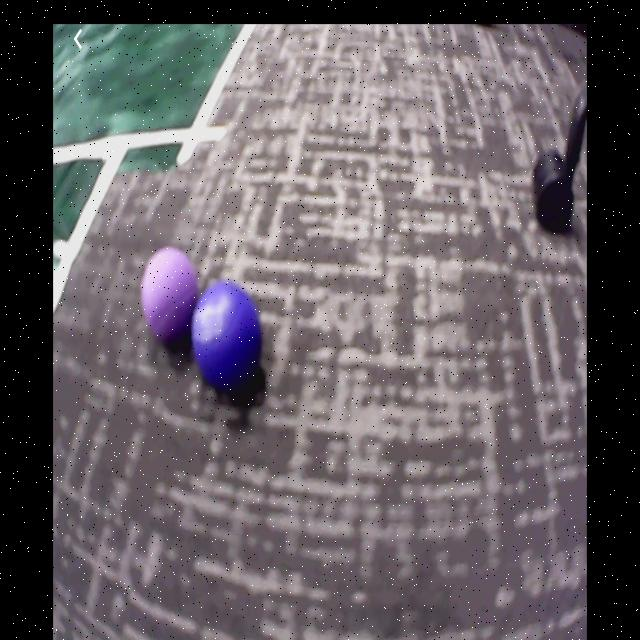ball: (191, 284, 268, 395), (142, 249, 197, 340)
